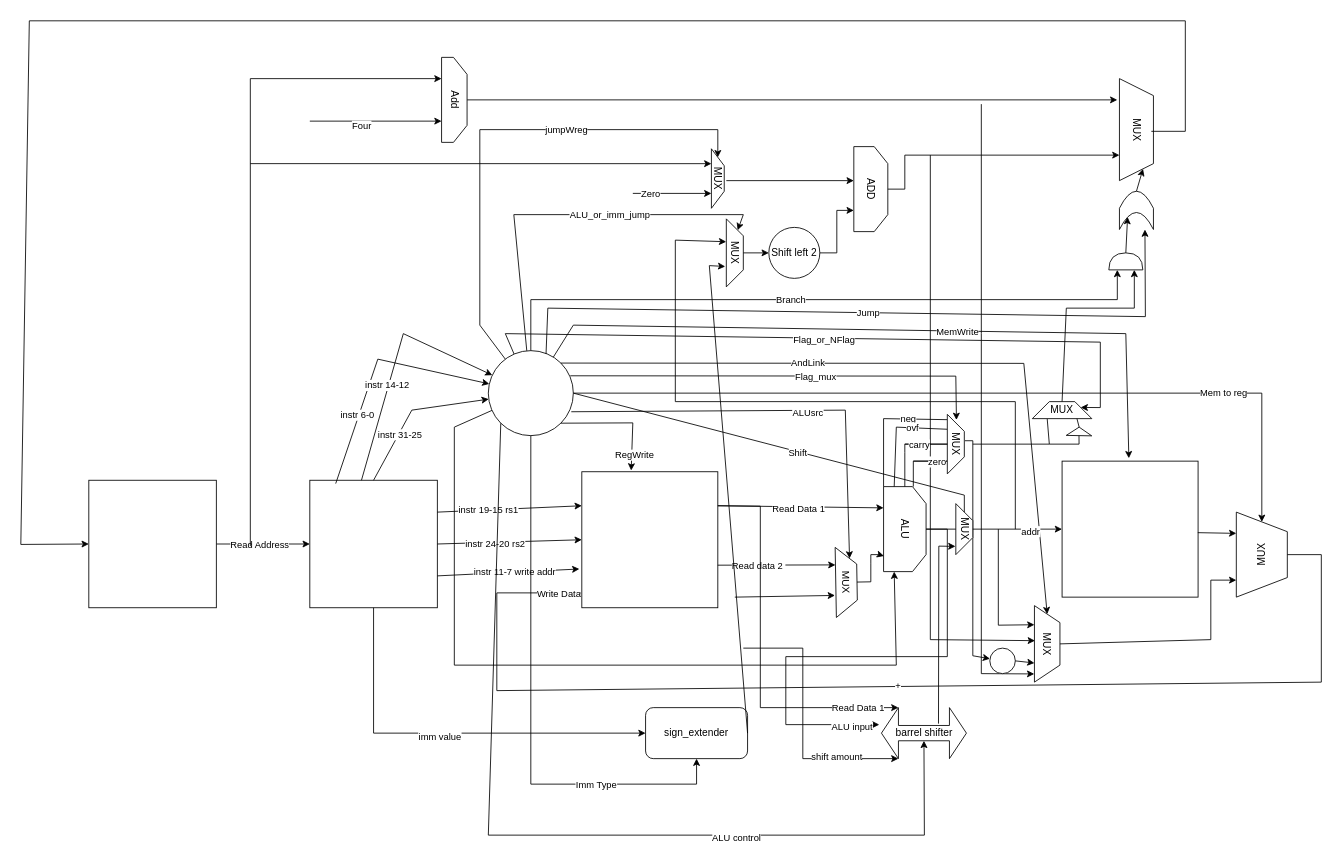
Image size: 1343x858. Some labels were removed from this diagram. Each missing label, with the box of its shape:
AND: (1108, 252, 1143, 270)
Control Unit: (487, 350, 573, 436)
Instruction memory: (309, 479, 437, 608)
Memory: (1061, 460, 1198, 597)
OR: (1119, 190, 1153, 230)
PC Counter: (88, 479, 216, 608)
register file: (581, 471, 718, 608)
zero extend: (989, 647, 1015, 674)
